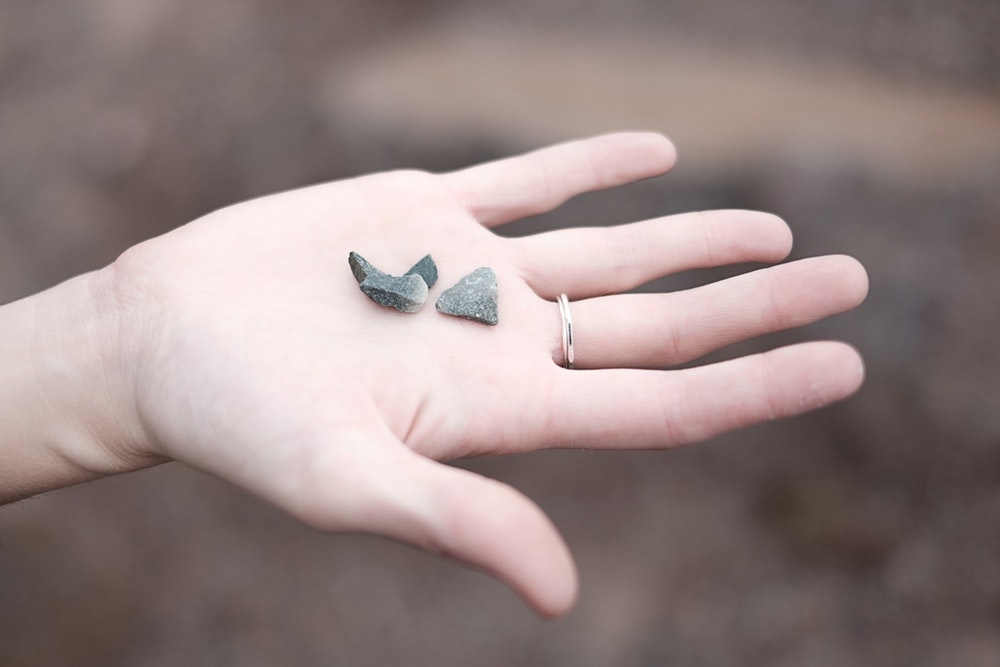palm: (185, 169, 532, 451)
